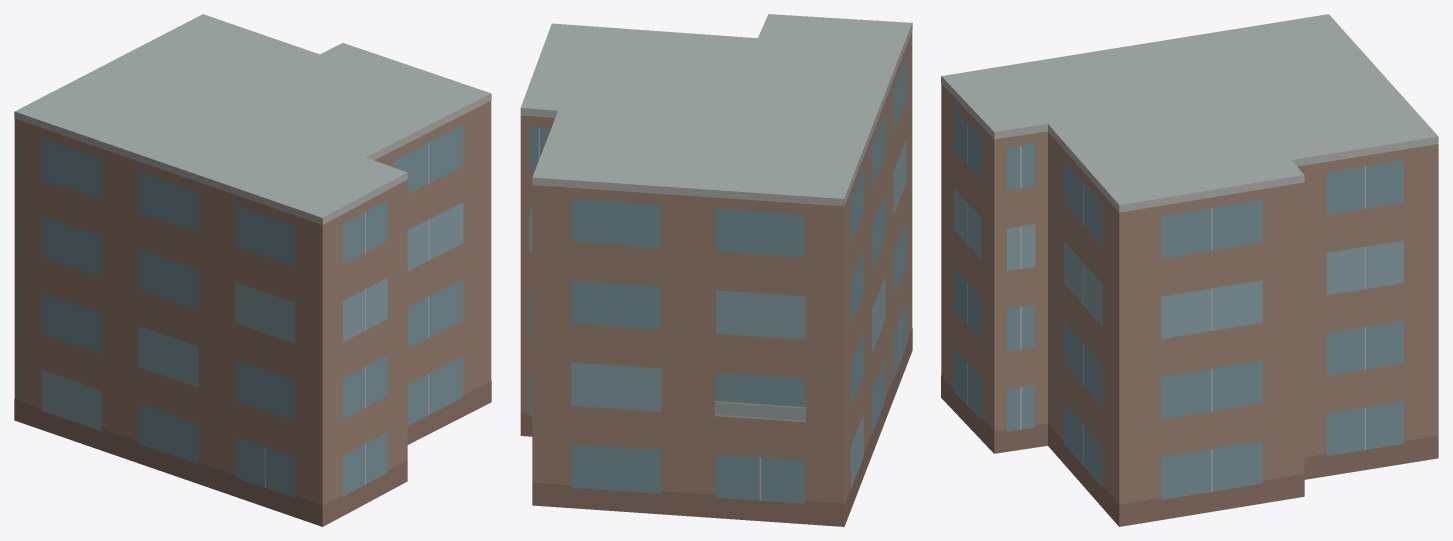
File: survey-upis-32722151.glb
3 views of the same model, side by side, from view 1: azimuth 30°, elevation 25°; view 2: azimuth 150°, elevation 25°; view 3: azimuth 270°, elevation 25° (orthographic). The views are drawn at different scales.
Visible parts, largest first — view 1: survey-upis-32722151.tmp; view 2: survey-upis-32722151.tmp; view 3: survey-upis-32722151.tmp.
Boxes of the visible parts, x1,y1,x2,y2 form: survey-upis-32722151.tmp: (14,14,491,526); survey-upis-32722151.tmp: (520,14,912,526); survey-upis-32722151.tmp: (941,14,1438,526).
Bounding box in the file's own units: 13.52 × 10.6 × 14.87.
